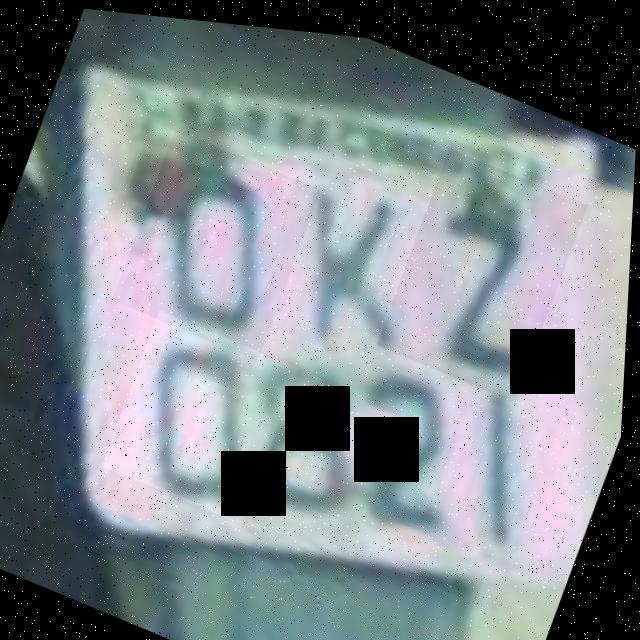0: (105, 302, 303, 522)
1: (421, 342, 586, 563)
2: (303, 321, 512, 550)
8: (216, 310, 401, 541)
O: (113, 120, 324, 359)
X: (257, 138, 449, 369)
Z: (377, 132, 590, 396)
